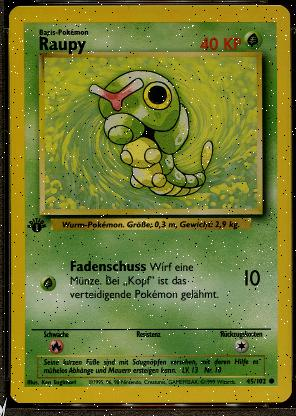Card: (6, 3, 292, 404)
